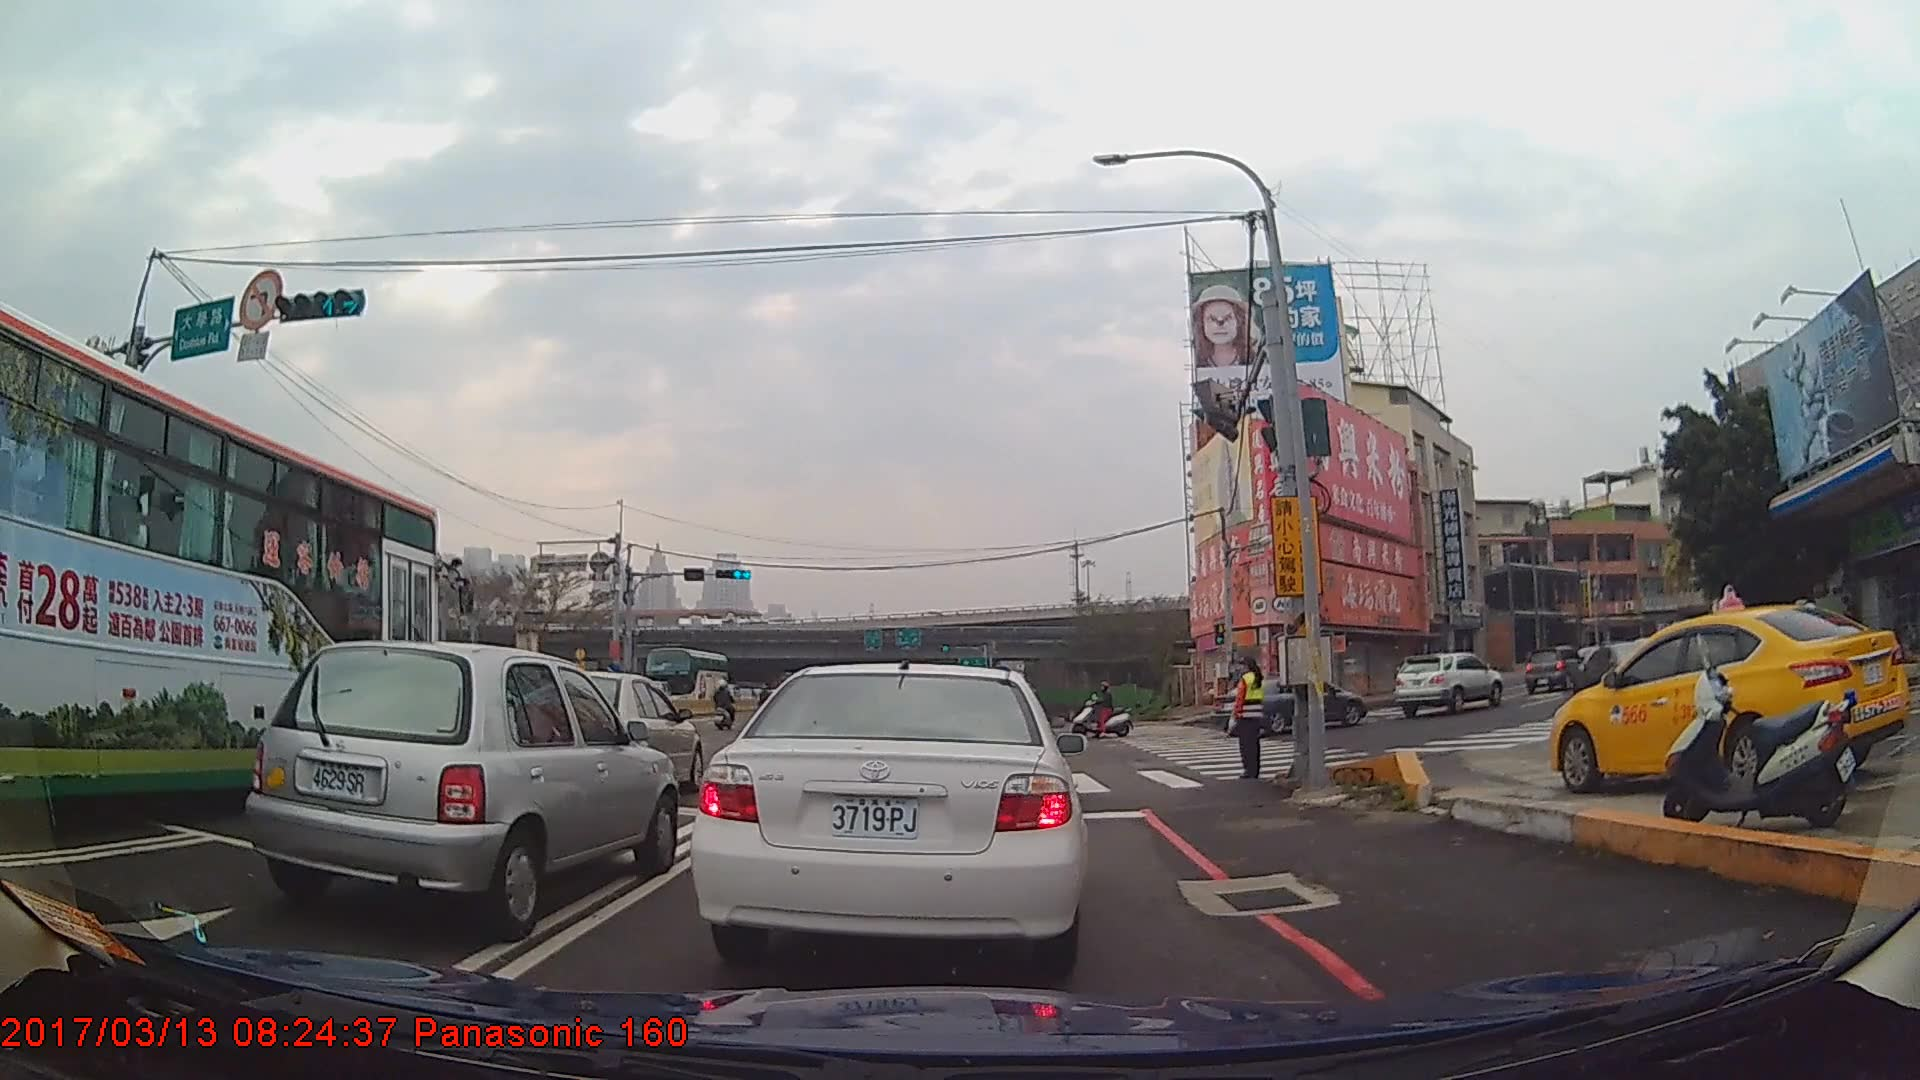pedestrian: (1228, 656, 1271, 783)
rider: (1073, 682, 1135, 740), (712, 679, 738, 733)
vehicle: (0, 297, 436, 841), (242, 640, 680, 939), (690, 661, 1083, 967), (1549, 603, 1907, 793), (524, 669, 705, 799), (1209, 674, 1366, 738), (1394, 651, 1502, 718), (644, 645, 728, 708), (1522, 647, 1585, 693)
